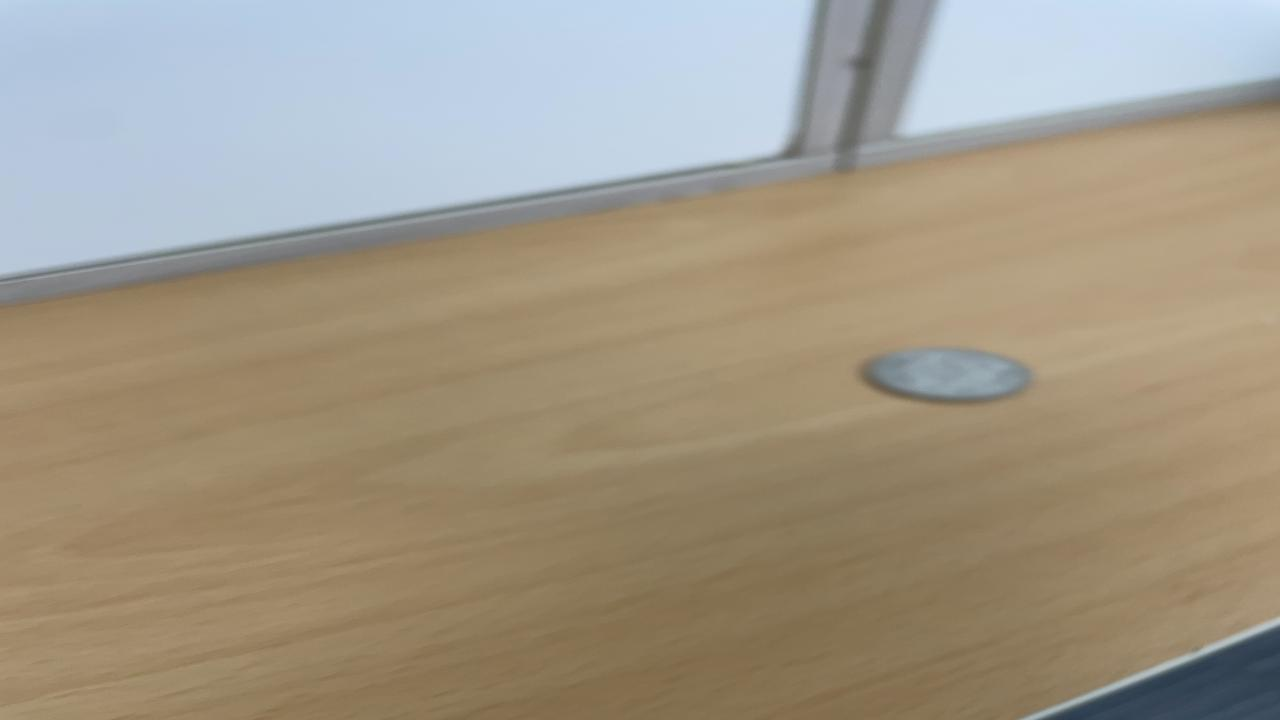coin: (854, 344, 1040, 405)
